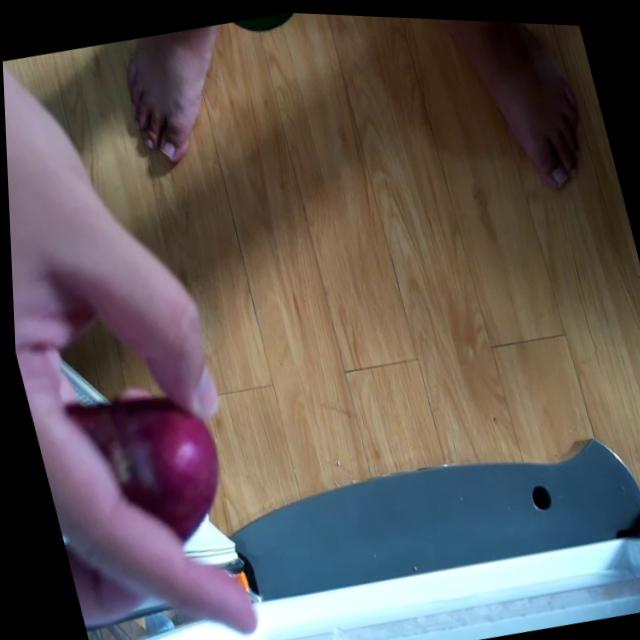onion: (52, 367, 232, 561)
